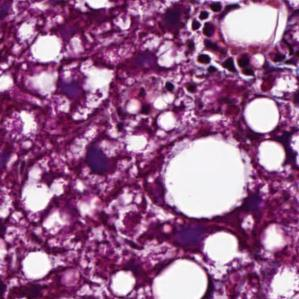inflammation: (179, 34, 256, 86), (181, 0, 226, 35), (160, 79, 202, 116)
